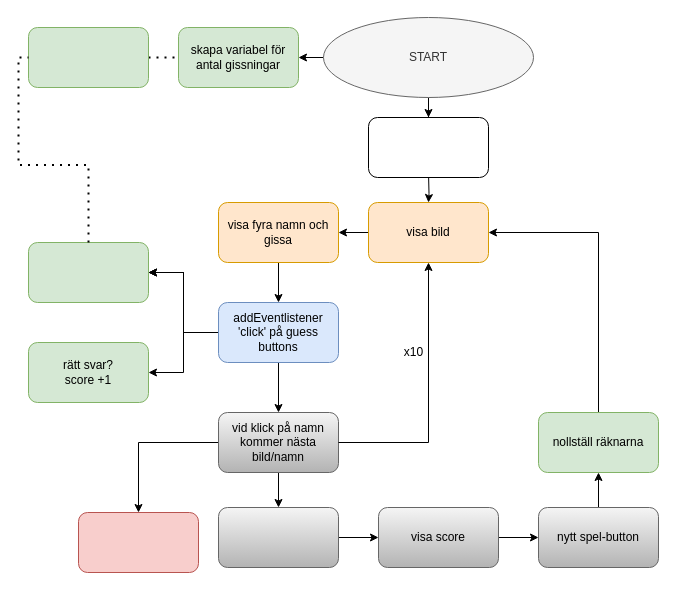
The diagram is 676 pixels wide and 590 high, and some of its shapes have lost their labels. The centre of each missing label's shape, as x and y in pixels:
efter en spelomgång på 10 foton, visa resultatknapp och lightbox: the point at 278,537
fel svar? score 0: the point at 88,272
Filtrera bort visade bilder till annan array: the point at 138,542
klona/ slumpa array: the point at 428,147
skapa variabel för antal gissa rätt: the point at 88,57
